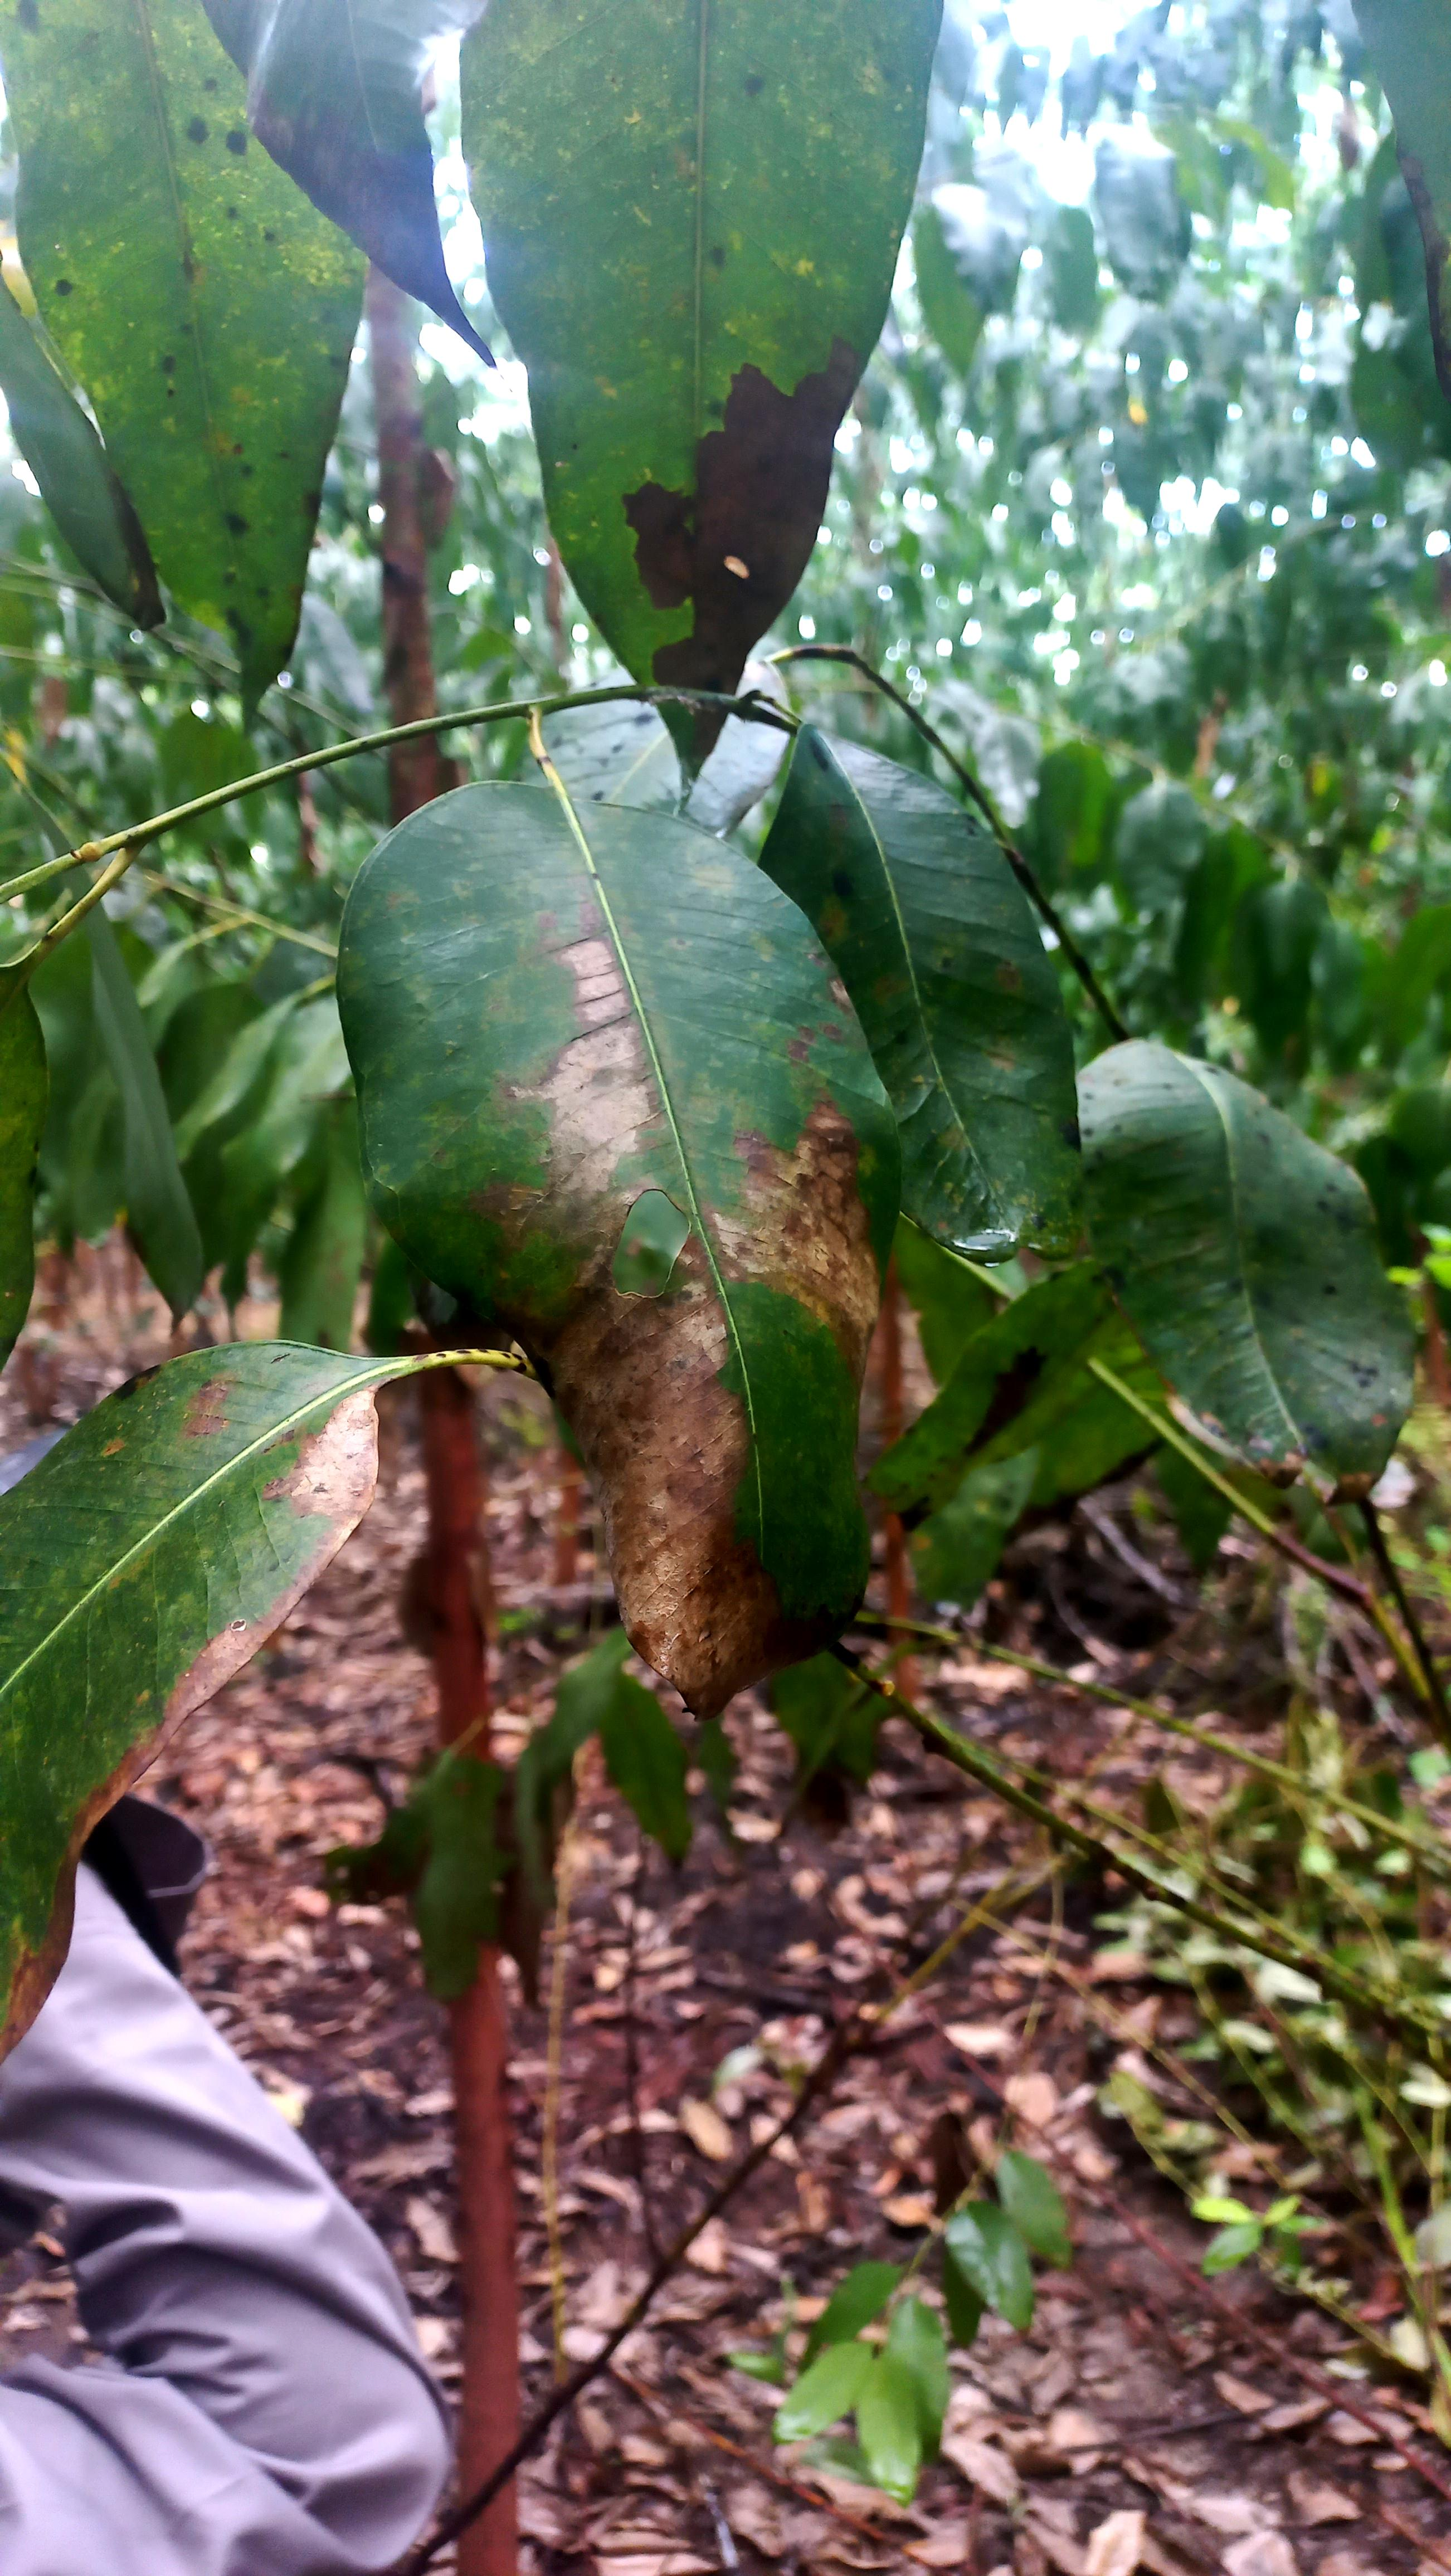Cylindrocladium: (466, 934, 843, 1656), (0, 1600, 269, 2071), (614, 347, 805, 759), (263, 107, 498, 354), (725, 1071, 899, 1397), (269, 1383, 377, 1549)
